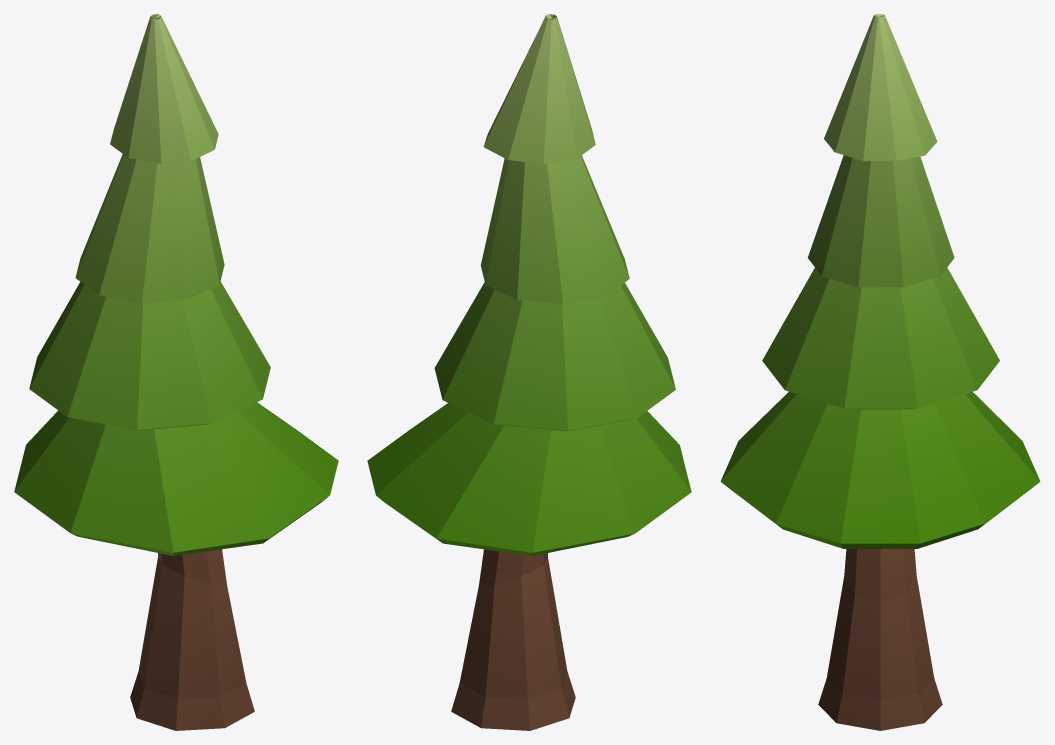
The model's file is Arvore1.fbx.
3 renders of one model, left to right at view 1: azimuth 30°, elevation 25°; view 2: azimuth 150°, elevation 25°; view 3: azimuth 270°, elevation 25°, orthographic. The views are drawn at different scales.
Visible parts, largest first — view 1: Cylinder; view 2: Cylinder; view 3: Cylinder.
Boxes of the visible parts, x1=… form: Cylinder: x1=14, y1=14, x2=338, y2=730; Cylinder: x1=367, y1=14, x2=691, y2=730; Cylinder: x1=720, y1=14, x2=1040, y2=730.
Size of the model in its own units: 514 by 493 by 1192.
2 materials, 2 textured.
